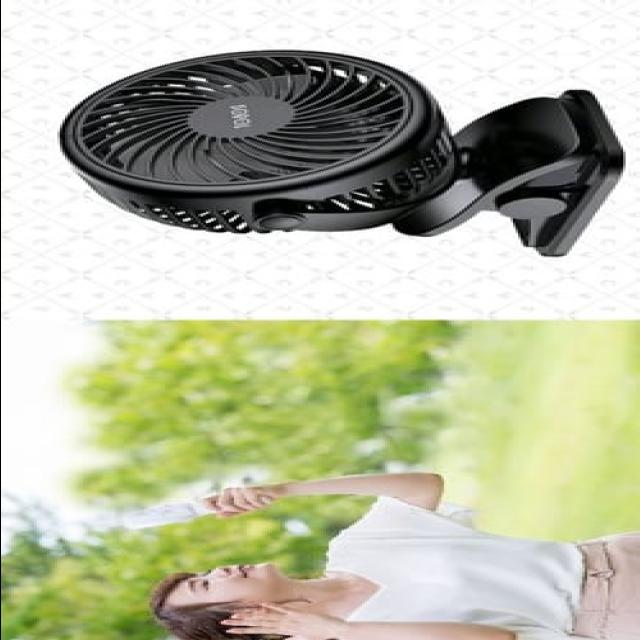fan: (63, 46, 628, 262)
